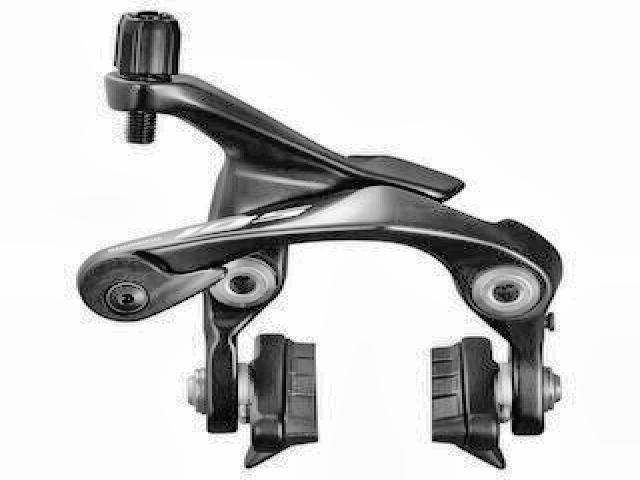rim_brake: (79, 8, 567, 472)
